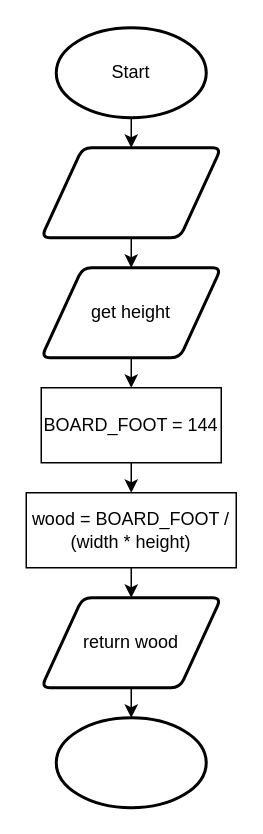
This 263x834 diagram has some shape labels left out. Each missing label, with the box of its shape:
get width: (39, 146, 222, 238)
Stop: (54, 716, 207, 808)
